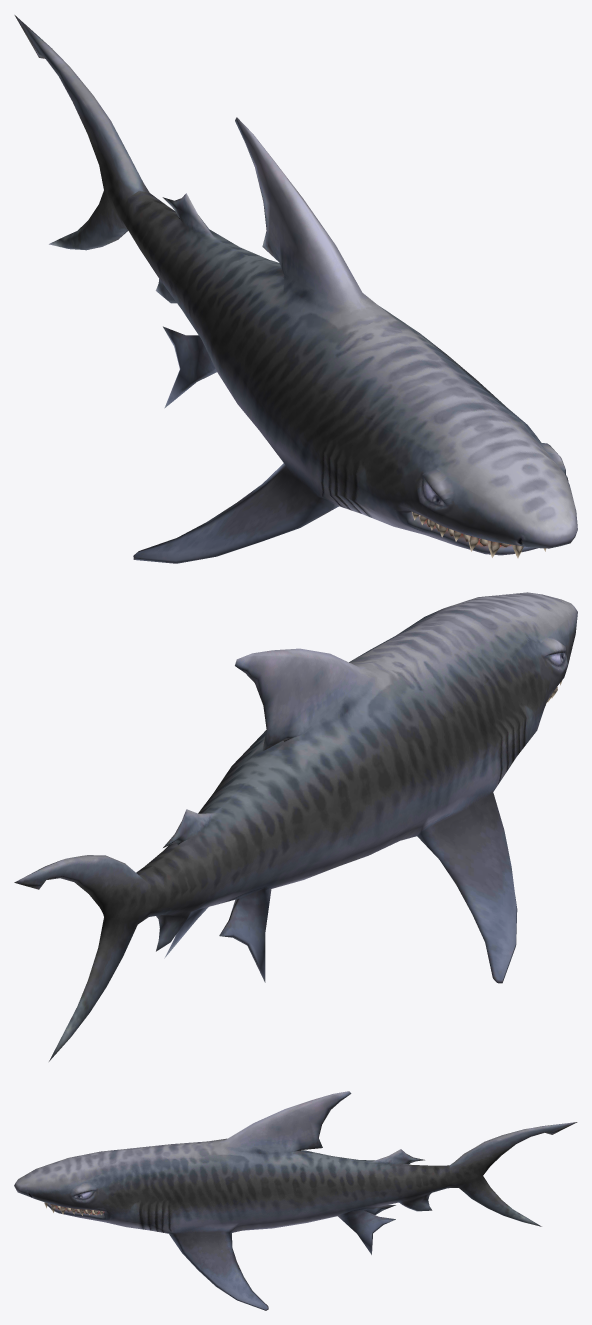
The model's file is hse_tiger_shark.glb.
3 views of the same model, one above another, from view 1: azimuth 30°, elevation 25°; view 2: azimuth 150°, elevation 25°; view 3: azimuth 270°, elevation 25° (orthographic). The views are drawn at different scales.
Parts seen in each view (by area): view 1: Object_2; view 2: Object_2; view 3: Object_2.
Boxes of the visible parts, bbox=[...] form: Object_2: bbox=[14, 15, 577, 563]; Object_2: bbox=[14, 592, 577, 1061]; Object_2: bbox=[14, 1091, 577, 1310].
Size of the model in its own units: 2.28 by 2 by 5.89.
Materials: 1 (1 with a texture image).
